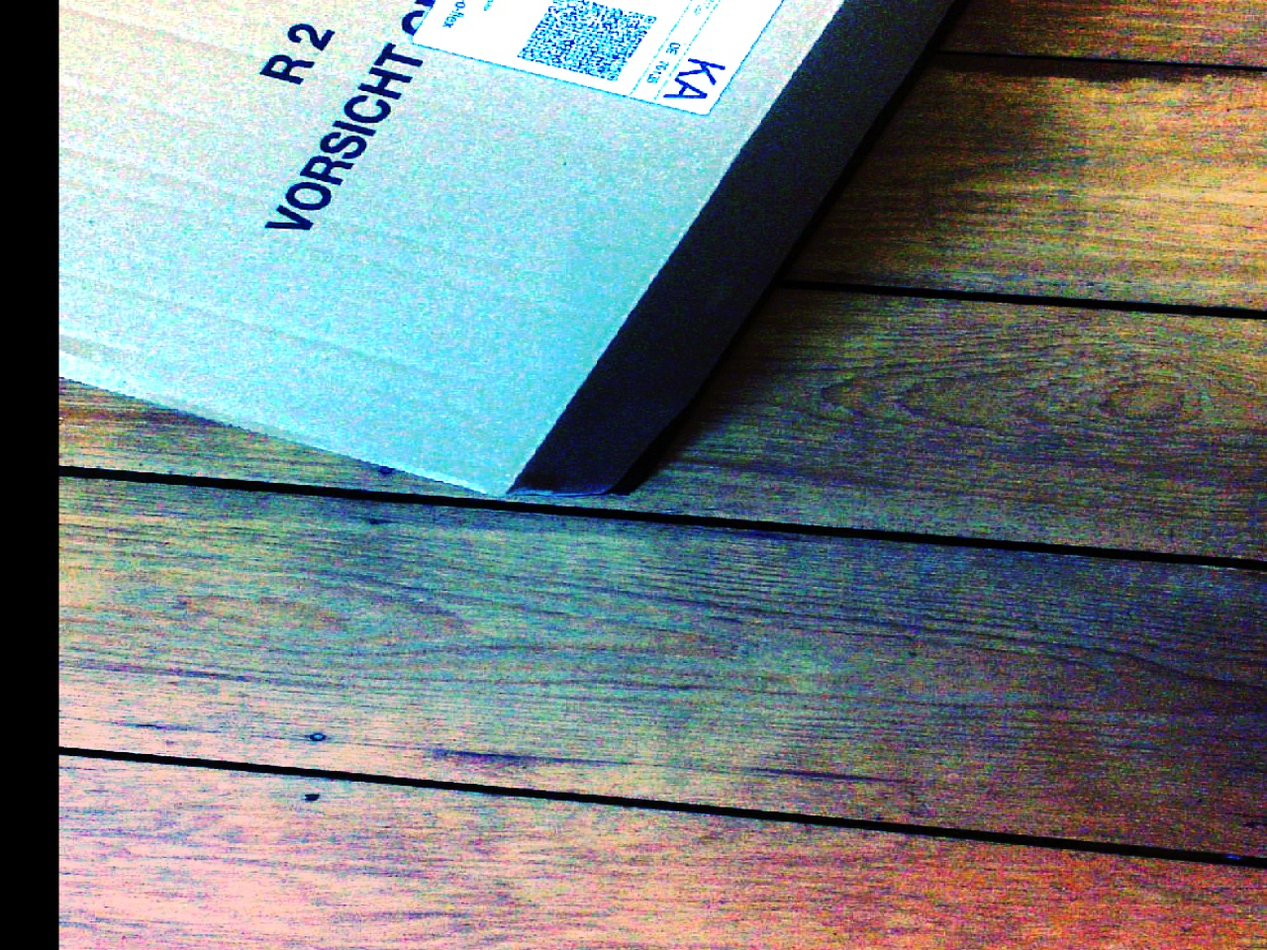good-parcel: (57, 1, 963, 520)
